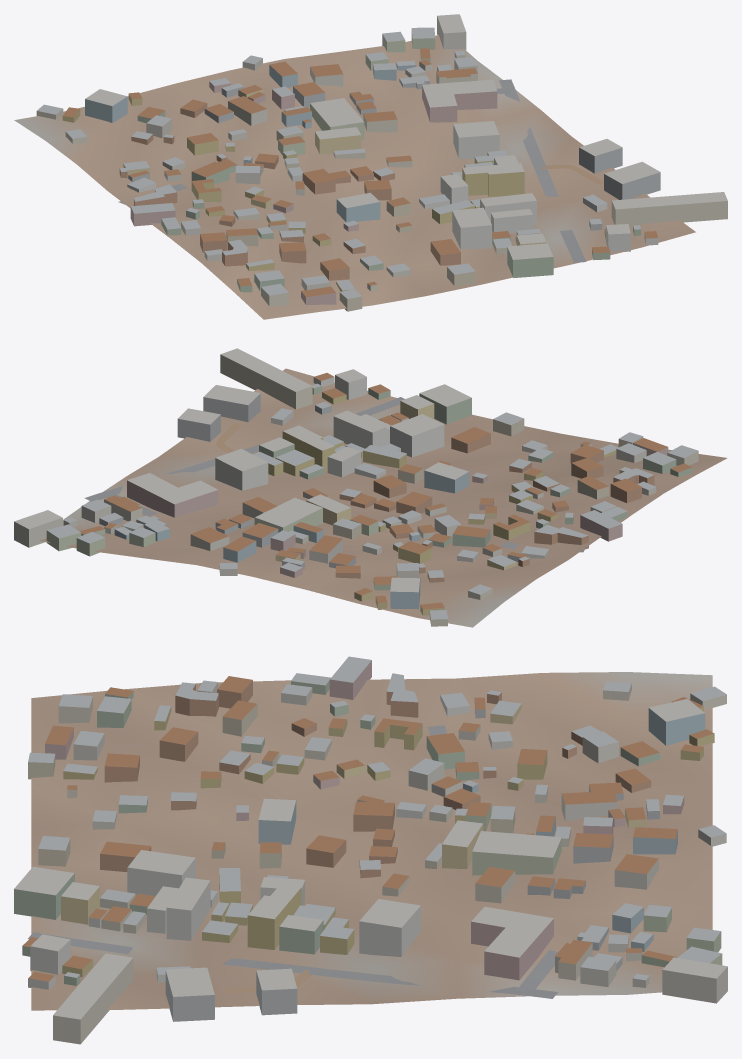
The picture shows the model from 3 angles, top to bottom: view 1: azimuth 30°, elevation 25°; view 2: azimuth 150°, elevation 25°; view 3: azimuth 270°, elevation 25°; orthographic projection. The views are drawn at different scales.
Visible parts, largest first — view 1: Lo; view 2: Lo; view 3: Lo.
Part boxes in pixels (x1,y1,x2,y2): Lo: (14, 14, 727, 319); Lo: (14, 348, 727, 627); Lo: (14, 656, 727, 1044).
Size of the model in its own units: 291 by 28.68 by 268.
